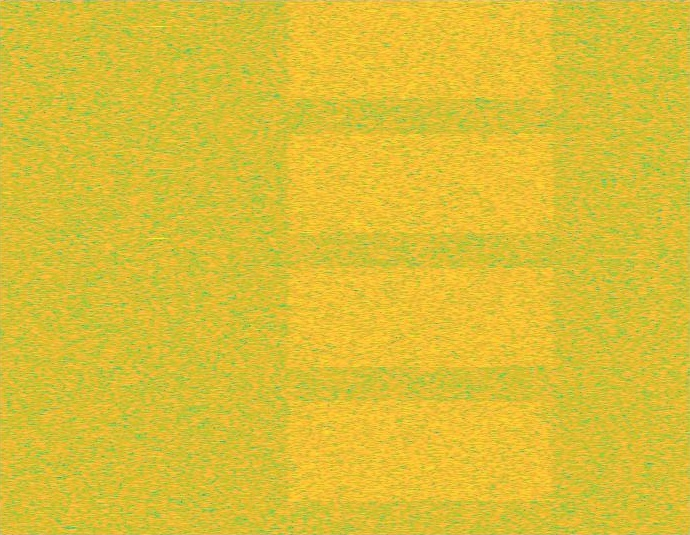5G: (283, 0, 559, 534)
Radar: (151, 0, 165, 534)
